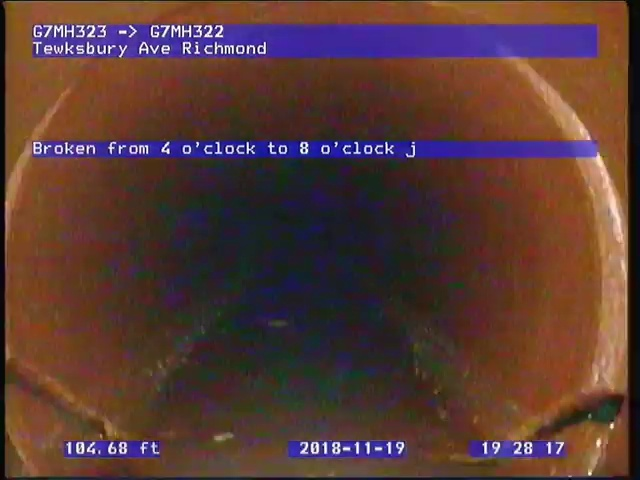crack: (5, 356, 165, 477), (468, 390, 628, 469)
